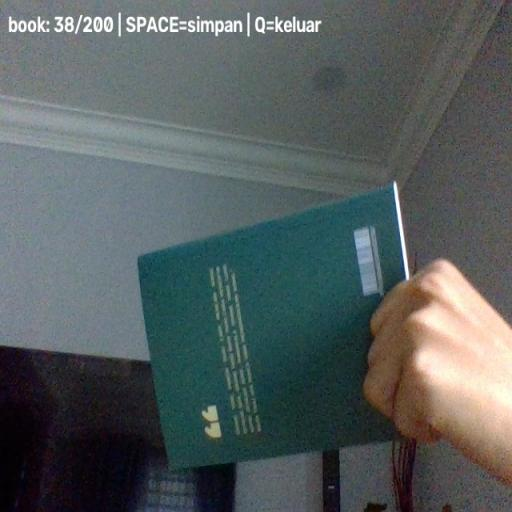Book: (138, 179, 412, 473)
